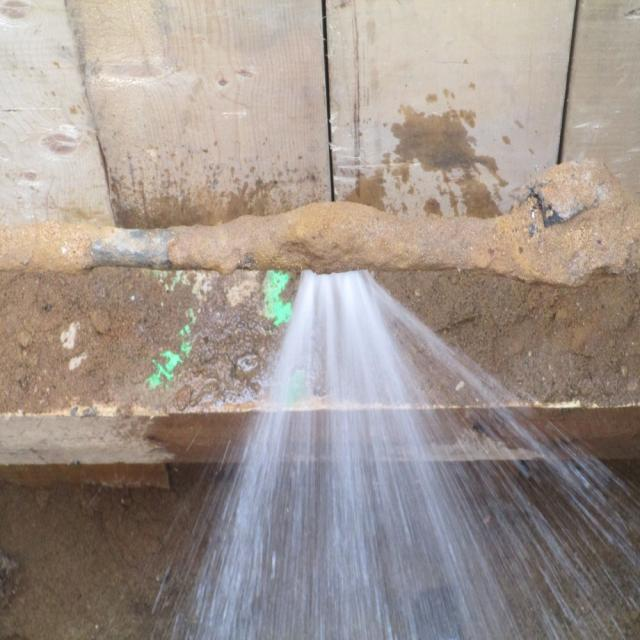leak: (170, 272, 640, 638)
